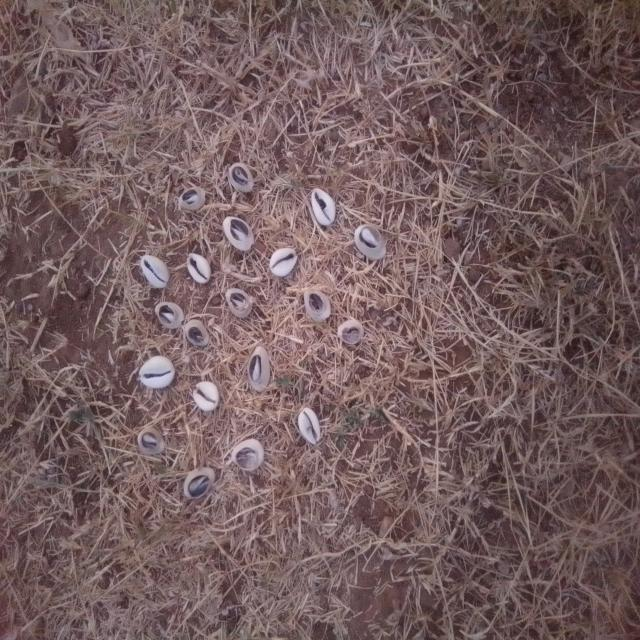facedown: (352, 220, 390, 262), (221, 211, 256, 255), (180, 463, 218, 501), (245, 343, 272, 395), (230, 437, 267, 473), (300, 287, 332, 325), (136, 423, 166, 459), (153, 300, 185, 333), (224, 288, 255, 320), (227, 161, 256, 195), (335, 317, 366, 347), (184, 316, 211, 350), (176, 185, 206, 213)
faceup: (136, 354, 179, 392), (139, 252, 172, 292), (309, 185, 336, 228), (192, 377, 221, 414), (268, 245, 299, 279), (296, 407, 322, 447), (184, 251, 213, 286)
